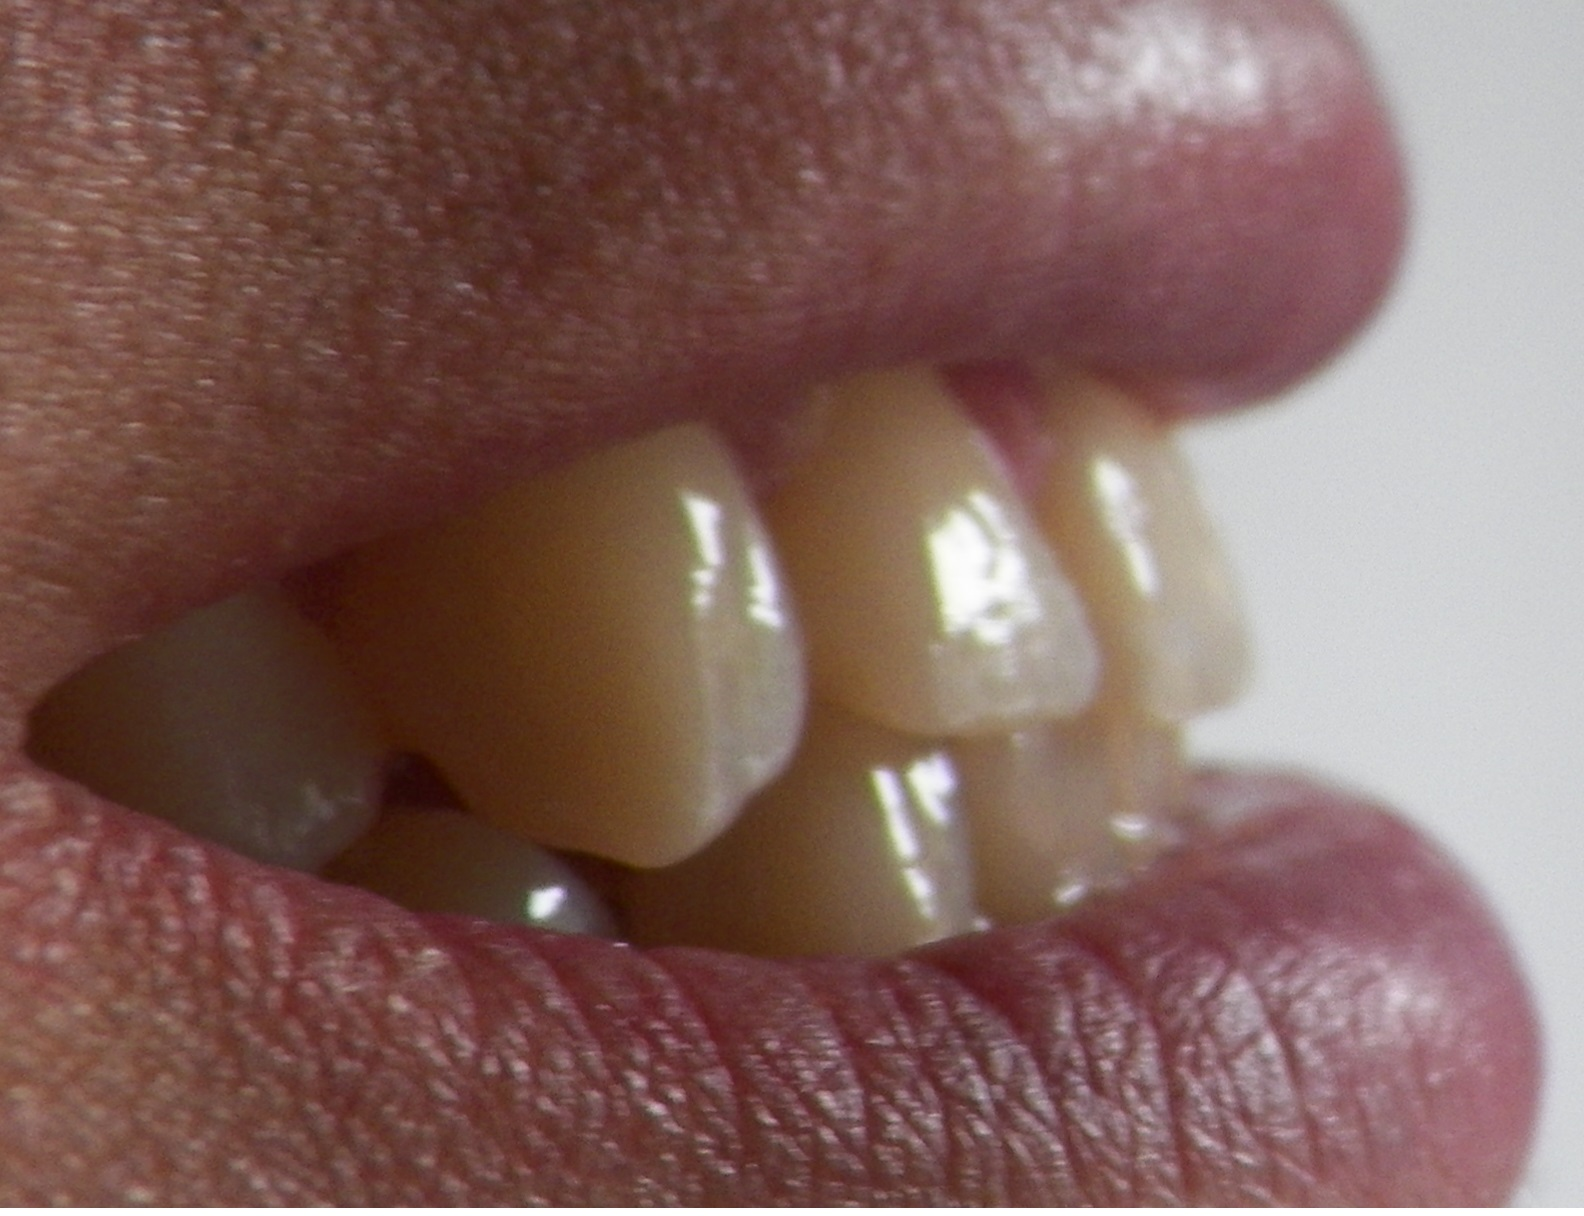boca: (51, 359, 1265, 950)
